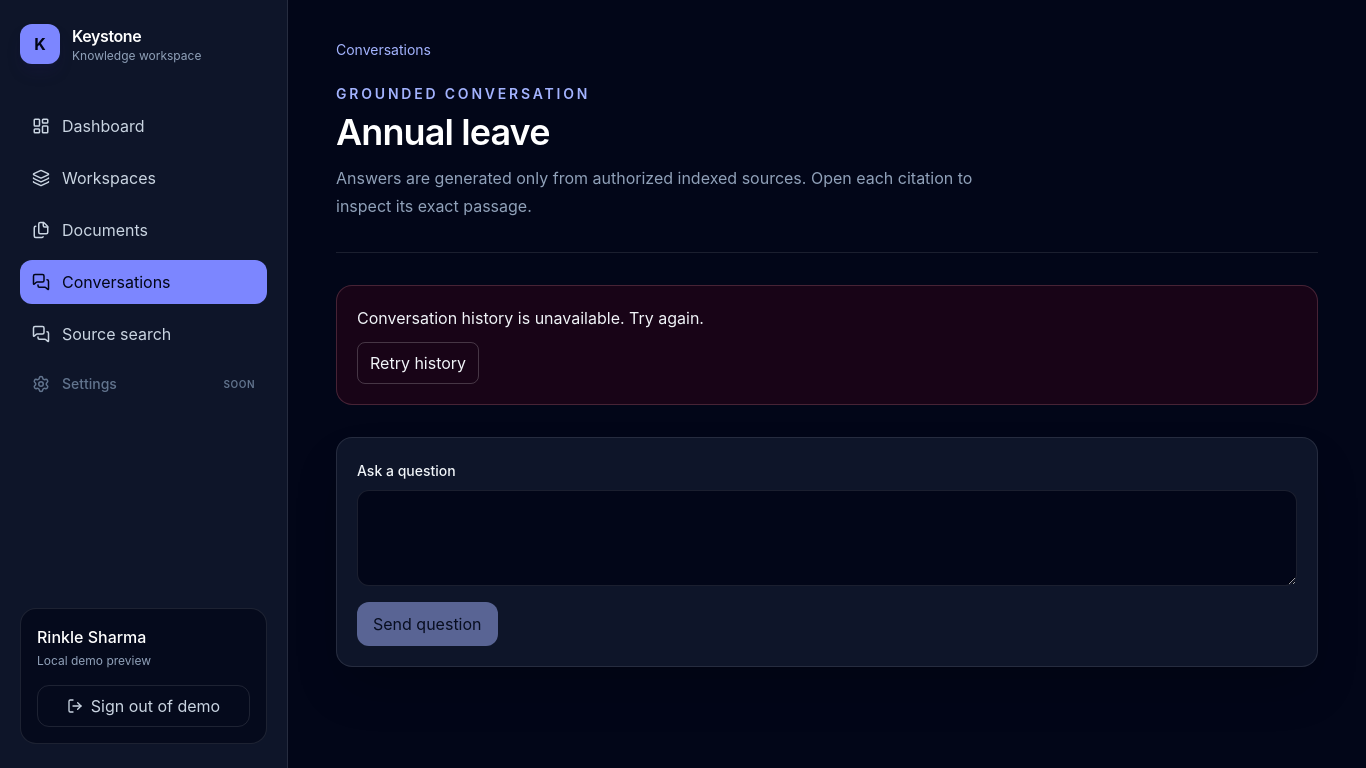
conversation routes › shows a recoverable history failure without leaking details
The image size is (1366, 768).
Expected: the message shows "history is unavailable", [357,308,704,328]
Click the button "Retry history". click: (418, 363)
box: [357,342,479,384]
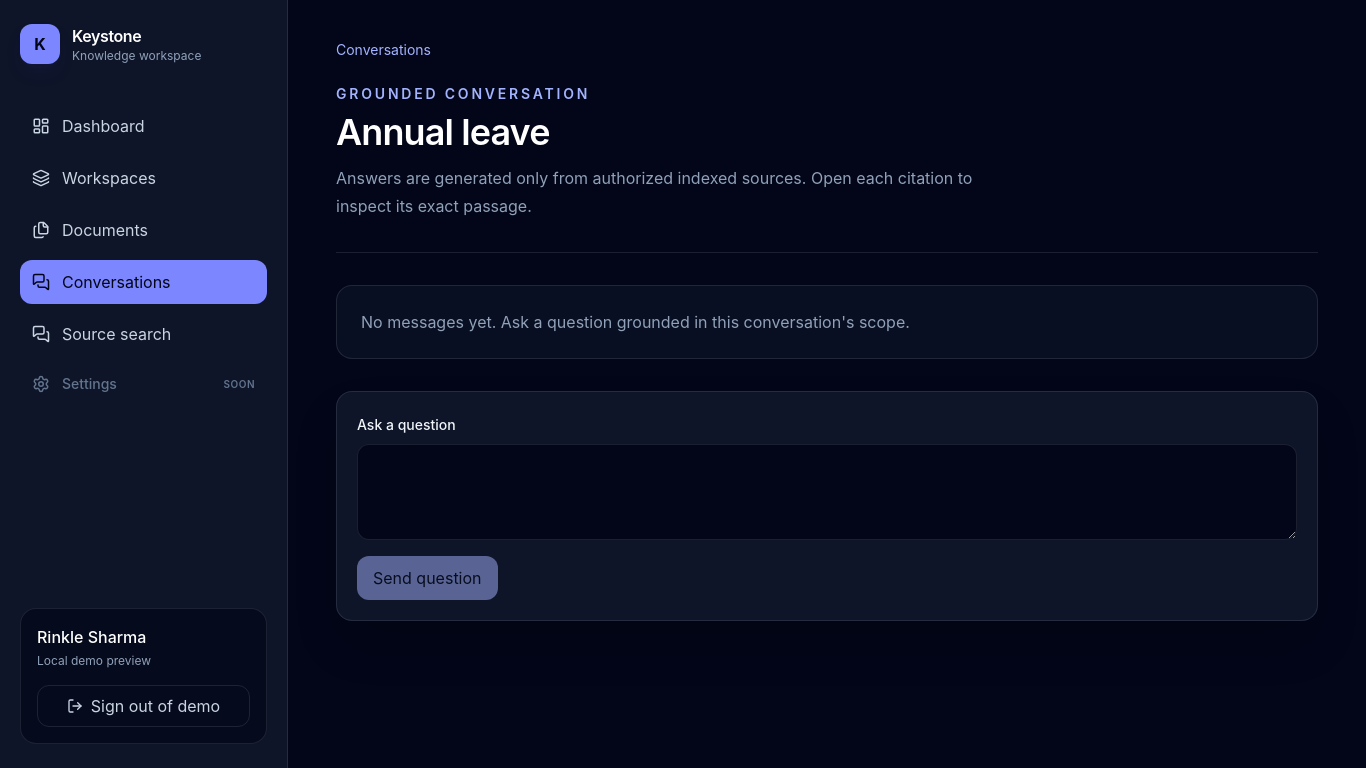
Result: the text "No messages yet" is shown at [361,312,910,332]
